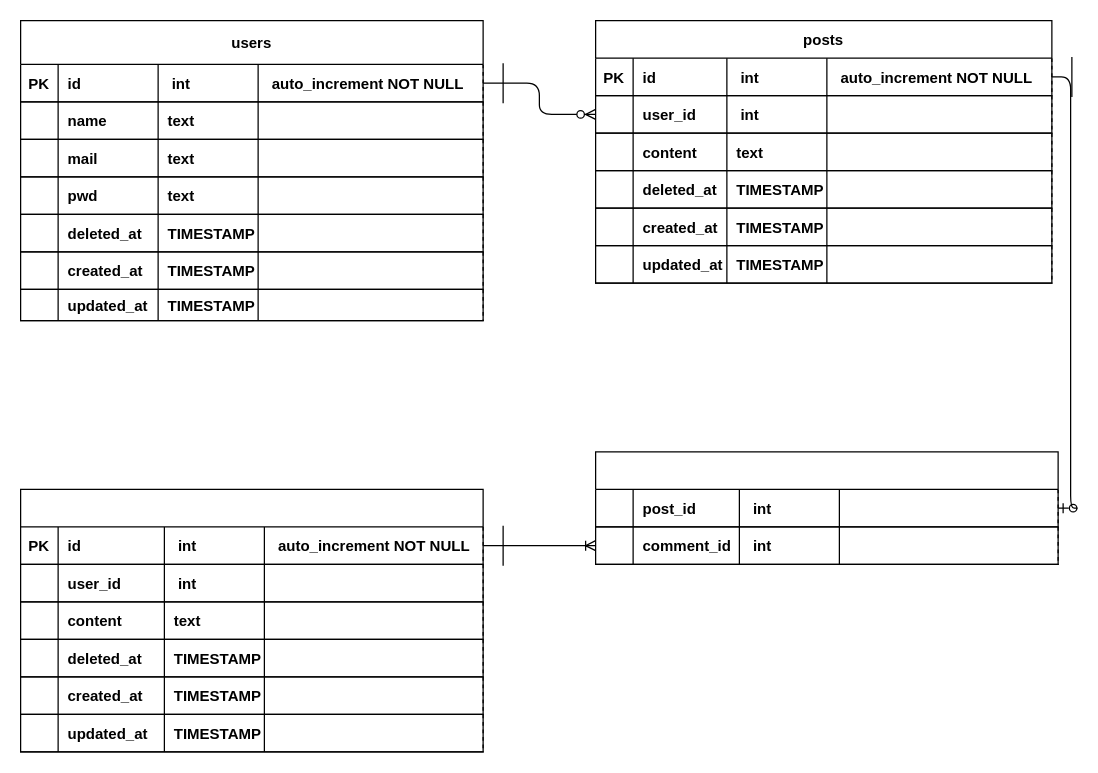
The diagram is 1098 pixels wide and 773 high, and some of its shapes have lost their labels. The box of each missing label's shape, as (x1, y1, x2, y2) in pixels:
comments: (19, 488, 483, 752)
post_comments: (594, 451, 1058, 564)
